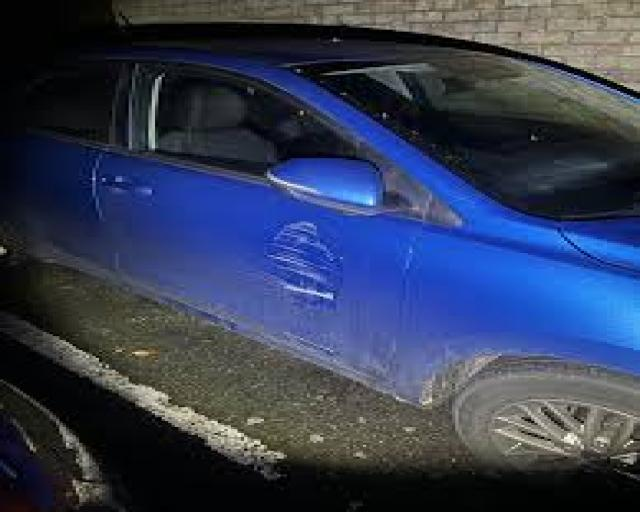scratch: (241, 205, 368, 335)
